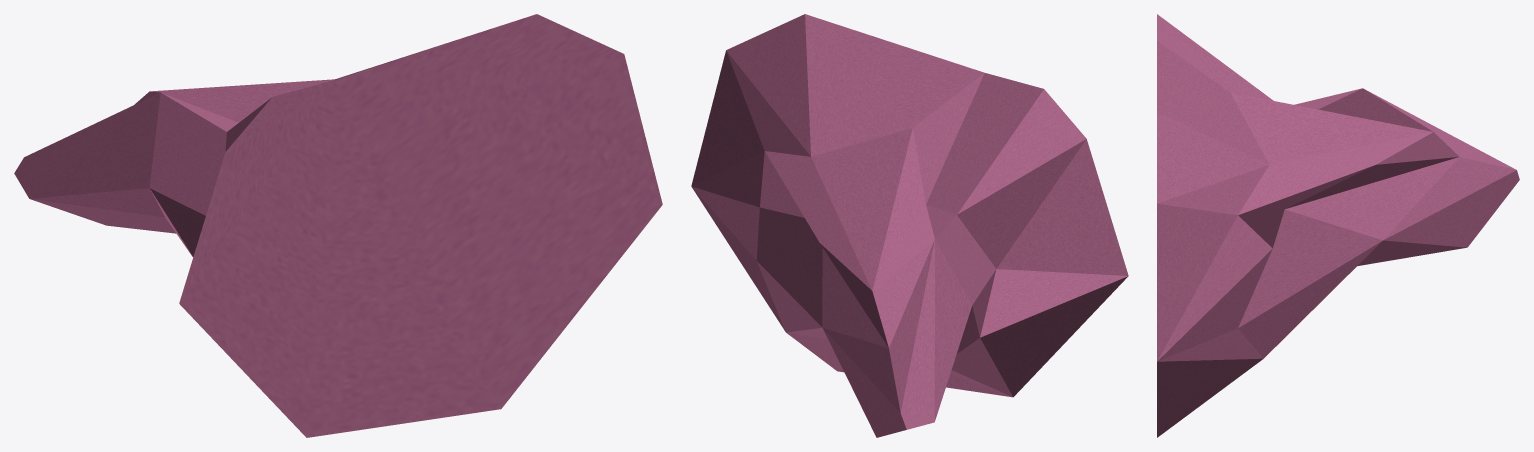
The model's file is pink_rock_1.FBX.
The picture shows the model from 3 angles, left to right: view 1: azimuth 30°, elevation 25°; view 2: azimuth 150°, elevation 25°; view 3: azimuth 270°, elevation 25°; orthographic projection. The views are drawn at different scales.
Visible parts, largest first — view 1: desert_rock_1.002; view 2: desert_rock_1.002; view 3: desert_rock_1.002.
Boxes of the visible parts, x1=… form: desert_rock_1.002: x1=14, y1=14, x2=662, y2=437; desert_rock_1.002: x1=691, y1=14, x2=1128, y2=437; desert_rock_1.002: x1=1157, y1=14, x2=1519, y2=437.
Bounding box in the file's own units: 346 × 264 × 254.
